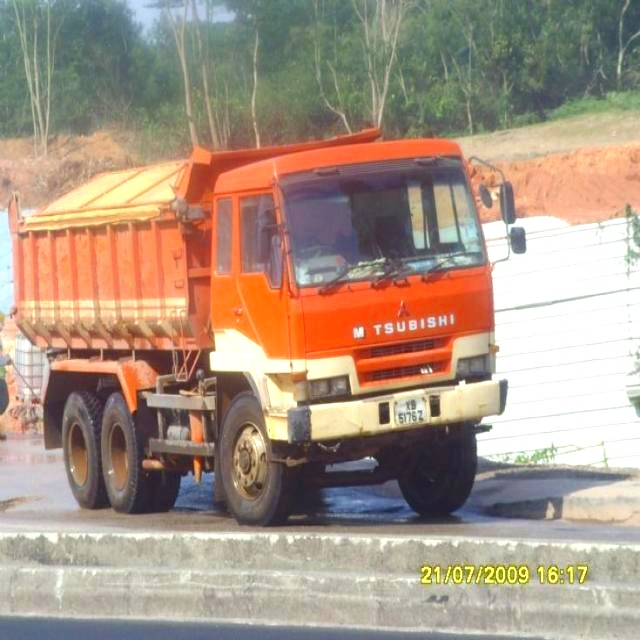truck: (10, 106, 528, 528)
